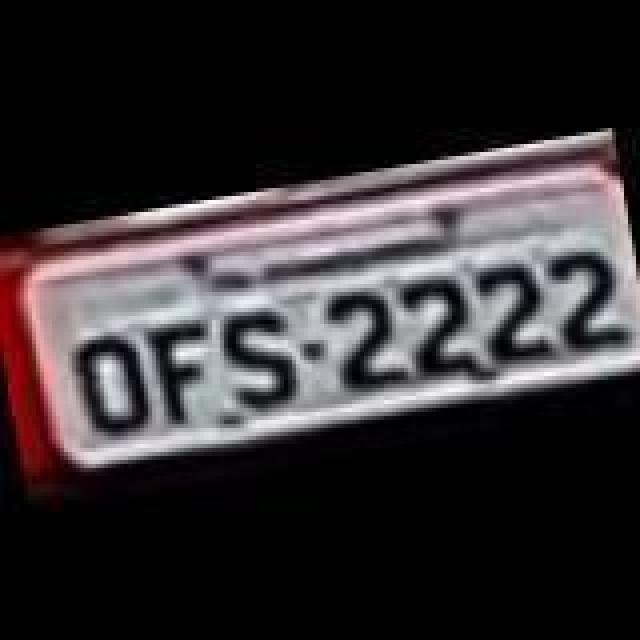2: (462, 250, 562, 374), (392, 264, 488, 392), (546, 236, 638, 356), (314, 282, 406, 398)
F: (142, 308, 226, 428)
O: (64, 328, 160, 448)
S: (216, 302, 312, 418)
